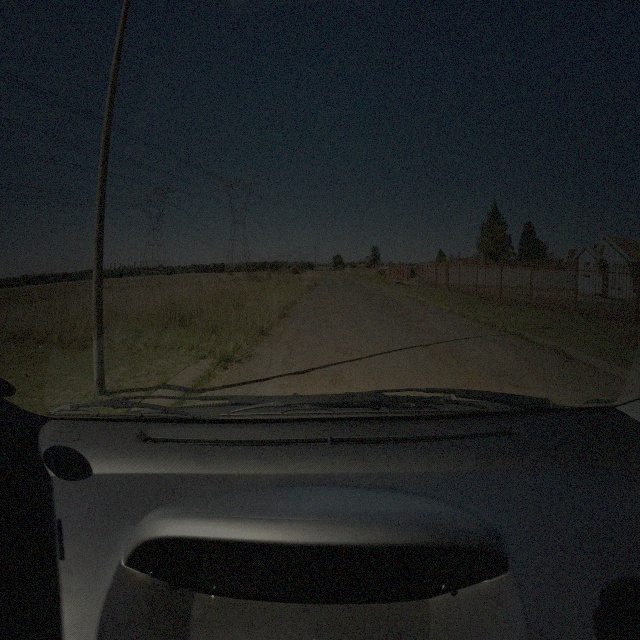pothole: (526, 366, 574, 390), (431, 348, 478, 363), (338, 347, 363, 359), (330, 377, 348, 391), (288, 338, 304, 348), (310, 300, 326, 309), (297, 331, 310, 338), (498, 372, 507, 380), (317, 319, 331, 324), (332, 313, 342, 319), (394, 309, 403, 313)
